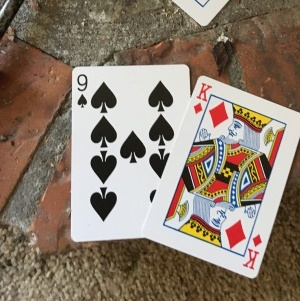card: (142, 75, 299, 278), (73, 60, 186, 241)
